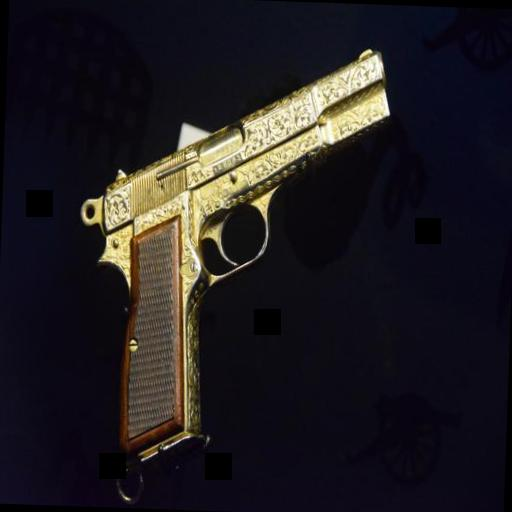Handgun: (60, 30, 388, 472)
